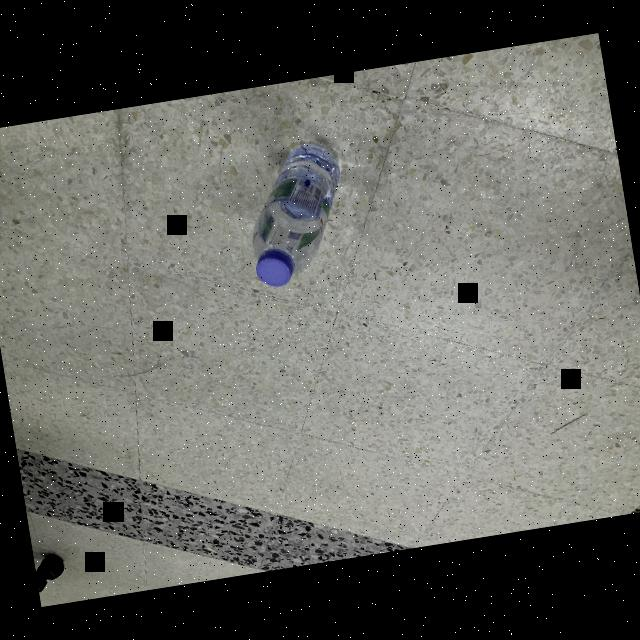plastic_bottle: (236, 134, 356, 290)
plastic_bottle_cap: (253, 246, 297, 290)
